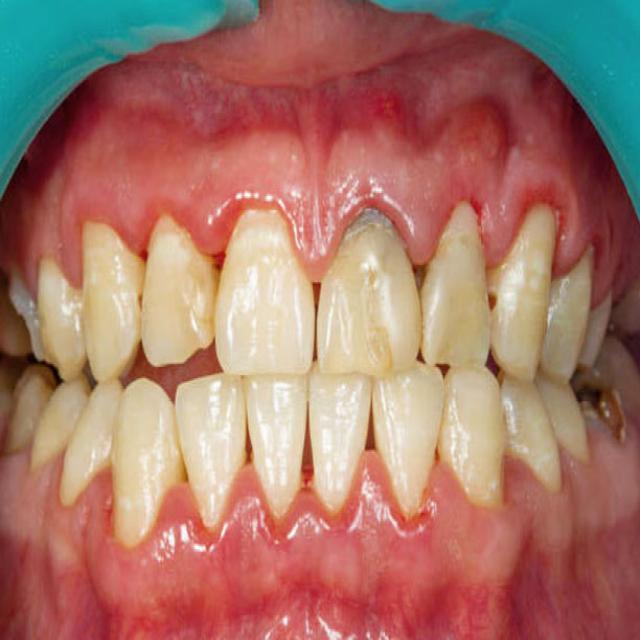caries: (577, 365, 629, 455)
